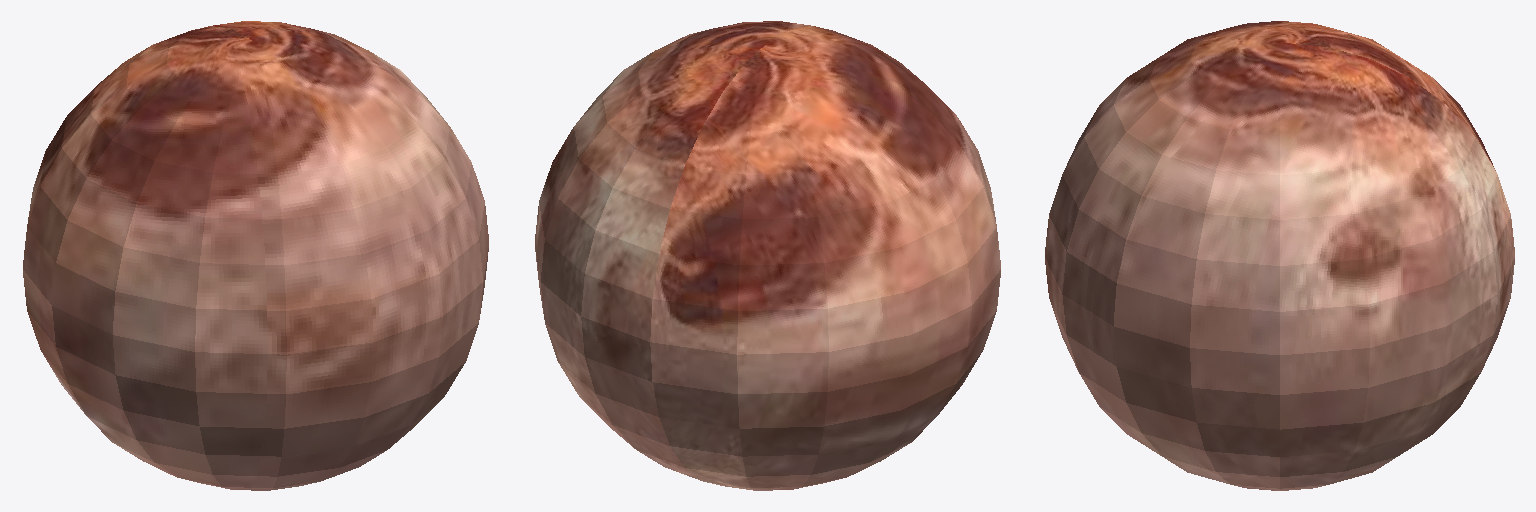
The picture shows the model from 3 angles: view 1: azimuth 30°, elevation 25°; view 2: azimuth 150°, elevation 25°; view 3: azimuth 270°, elevation 25°; orthographic projection.
Parts seen in each view (by area): view 1: sphere1; view 2: sphere1; view 3: sphere1.
Part boxes in pixels (x1,y1,x2,y2): sphere1: (23,21,488,490); sphere1: (535,21,1000,490); sphere1: (1045,21,1514,490).
Bounding box in the file's own units: 2 × 2 × 2.
Materials: 1 (1 with a texture image).